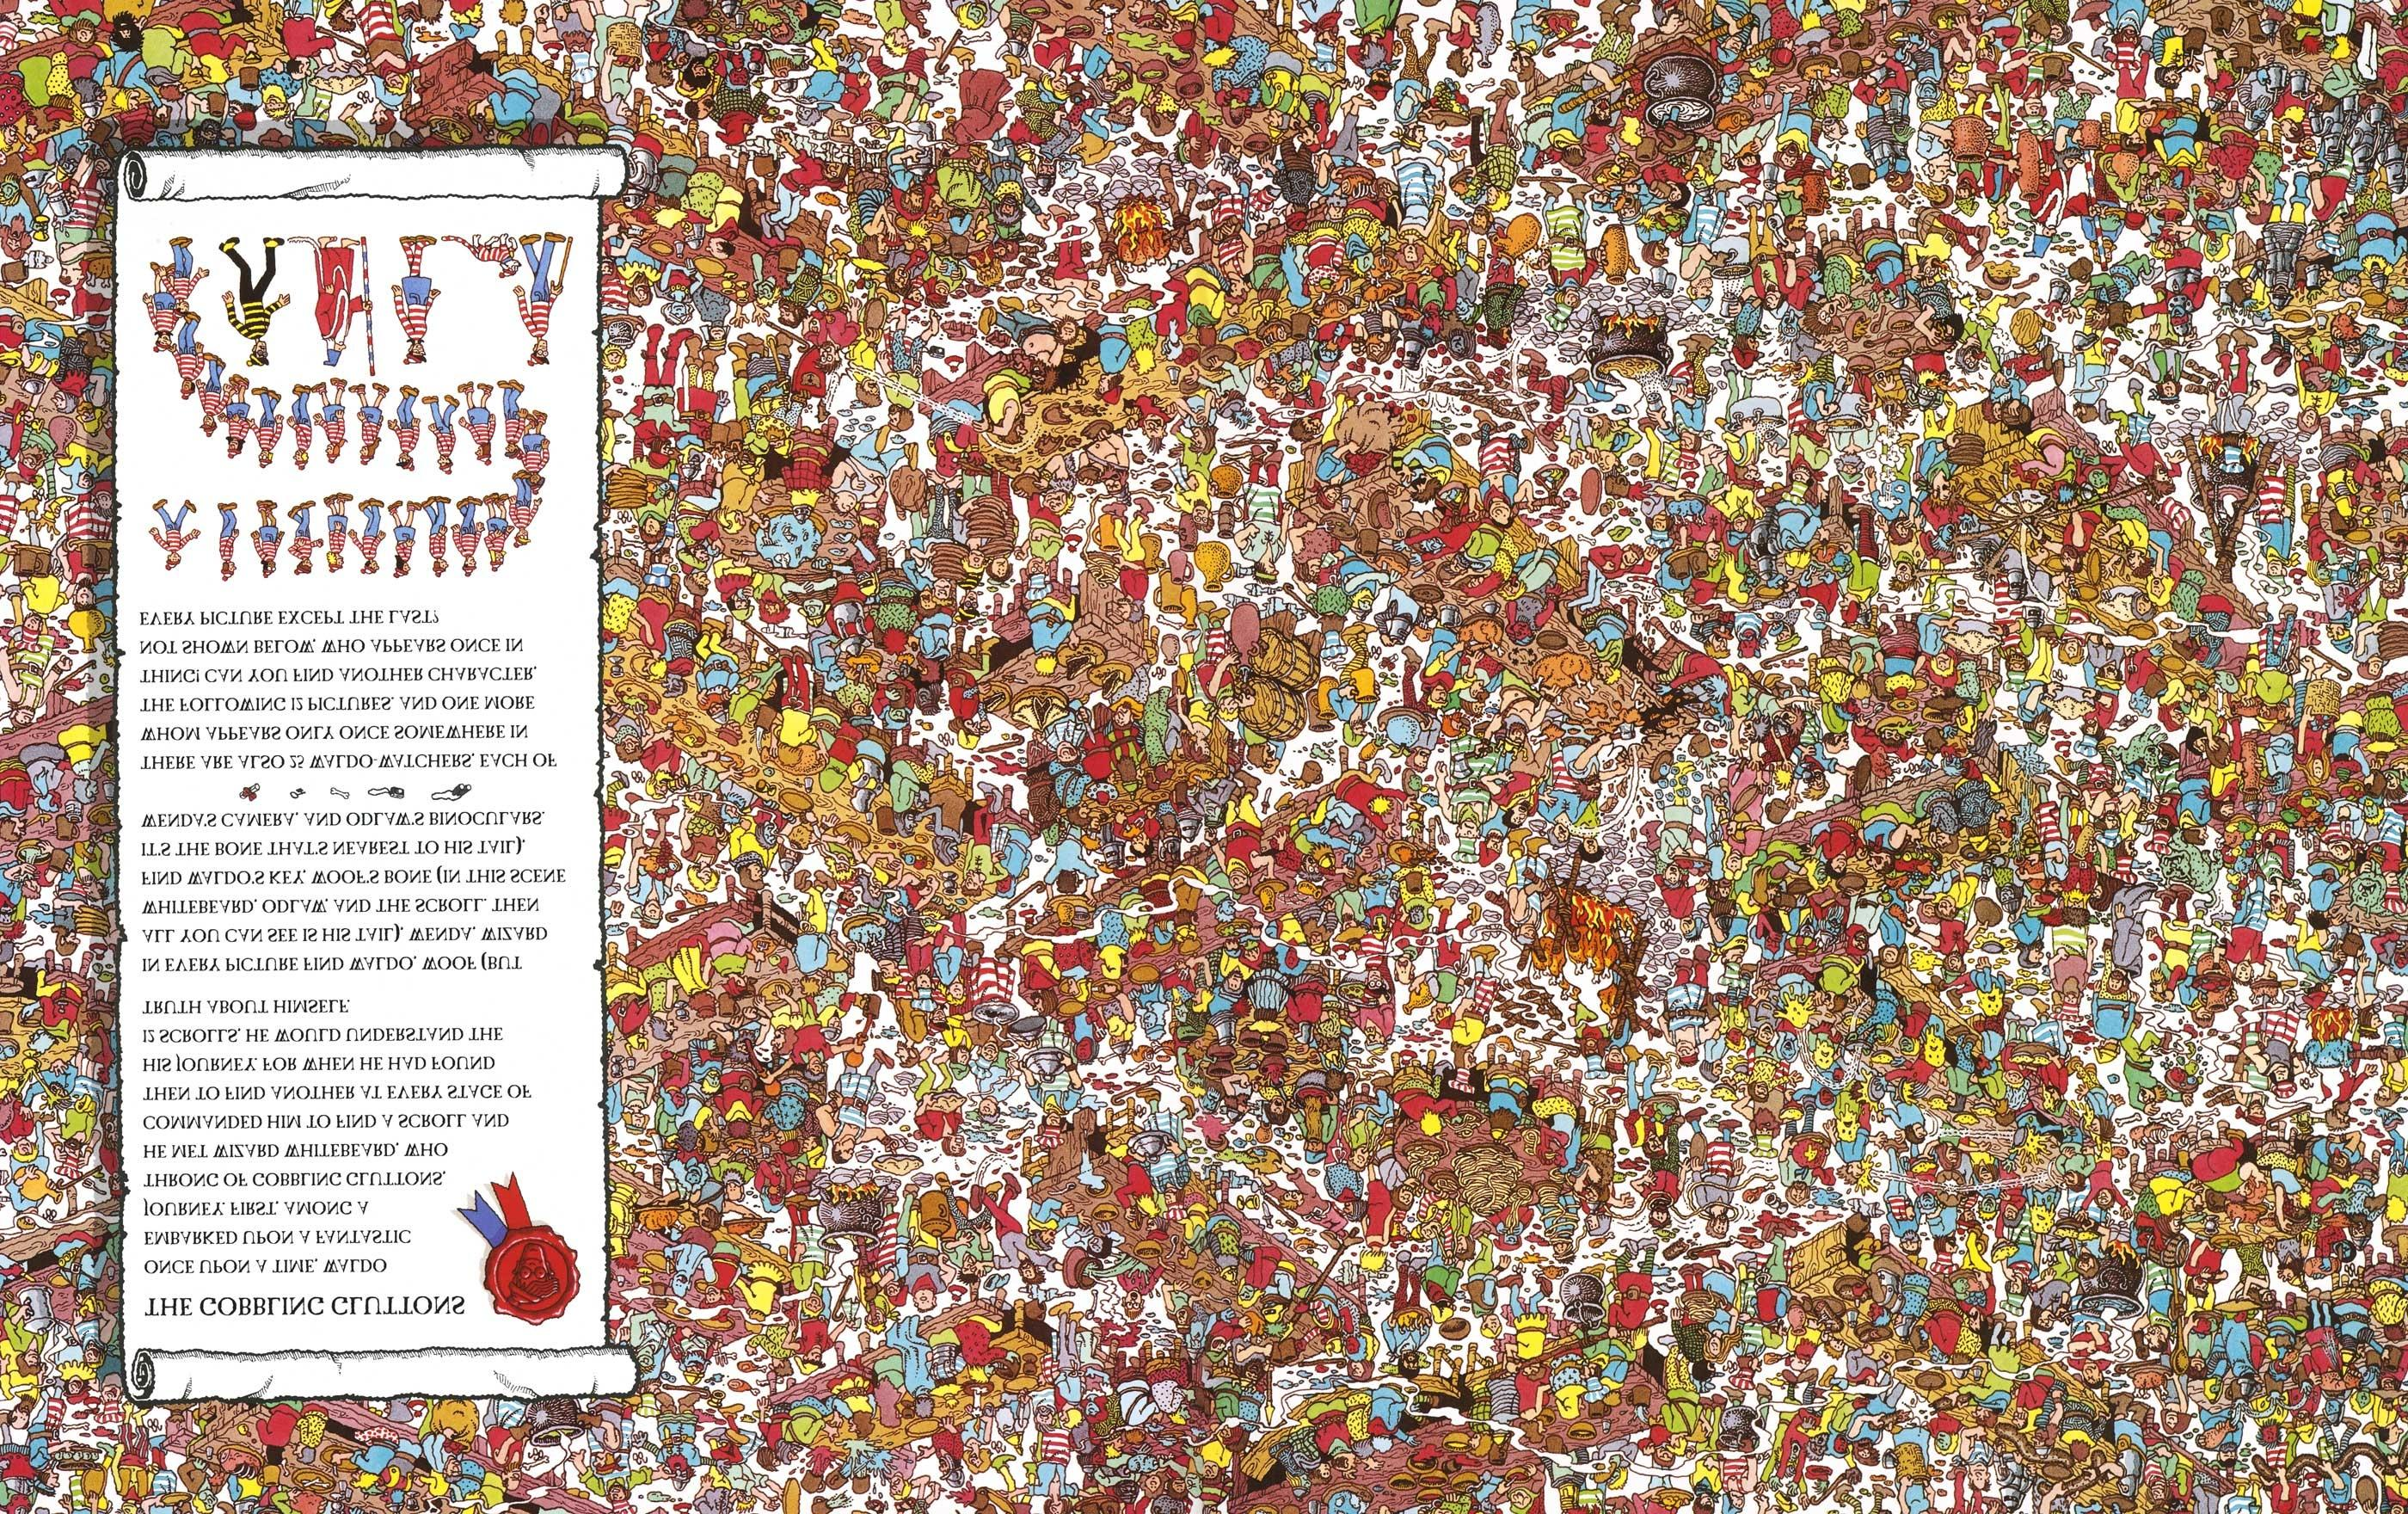waldos: (1353, 931, 1391, 1006)
